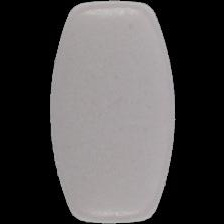13811-680: (0, 0, 224, 224)
